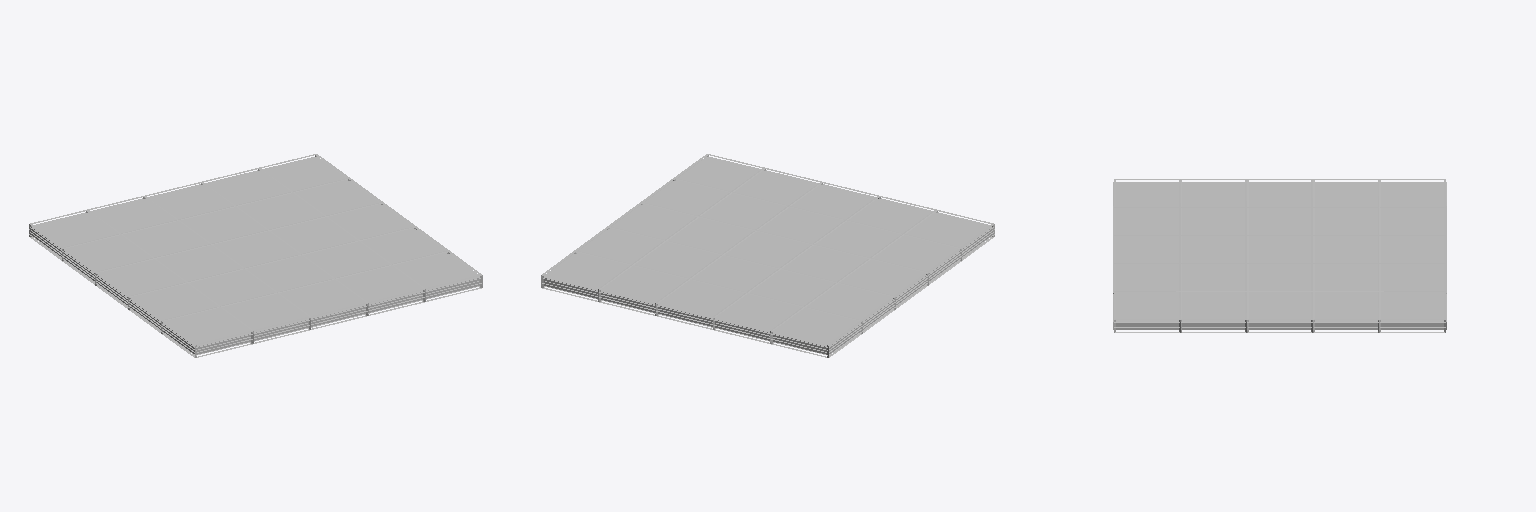
File: tablero.obj
3 views of the same model, side by side, from view 1: azimuth 30°, elevation 25°; view 2: azimuth 150°, elevation 25°; view 3: azimuth 270°, elevation 25° (orthographic).
Visible parts, largest first — view 1: Tablero_Cube.002; view 2: Tablero_Cube.002; view 3: Tablero_Cube.002.
Boxes of the visible parts, x1=… form: Tablero_Cube.002: x1=29, y1=154, x2=482, y2=357; Tablero_Cube.002: x1=541, y1=154, x2=994, y2=357; Tablero_Cube.002: x1=1113, y1=179, x2=1446, y2=332.
Bounding box in the file's own units: 16.5 × 0.7006 × 16.5.